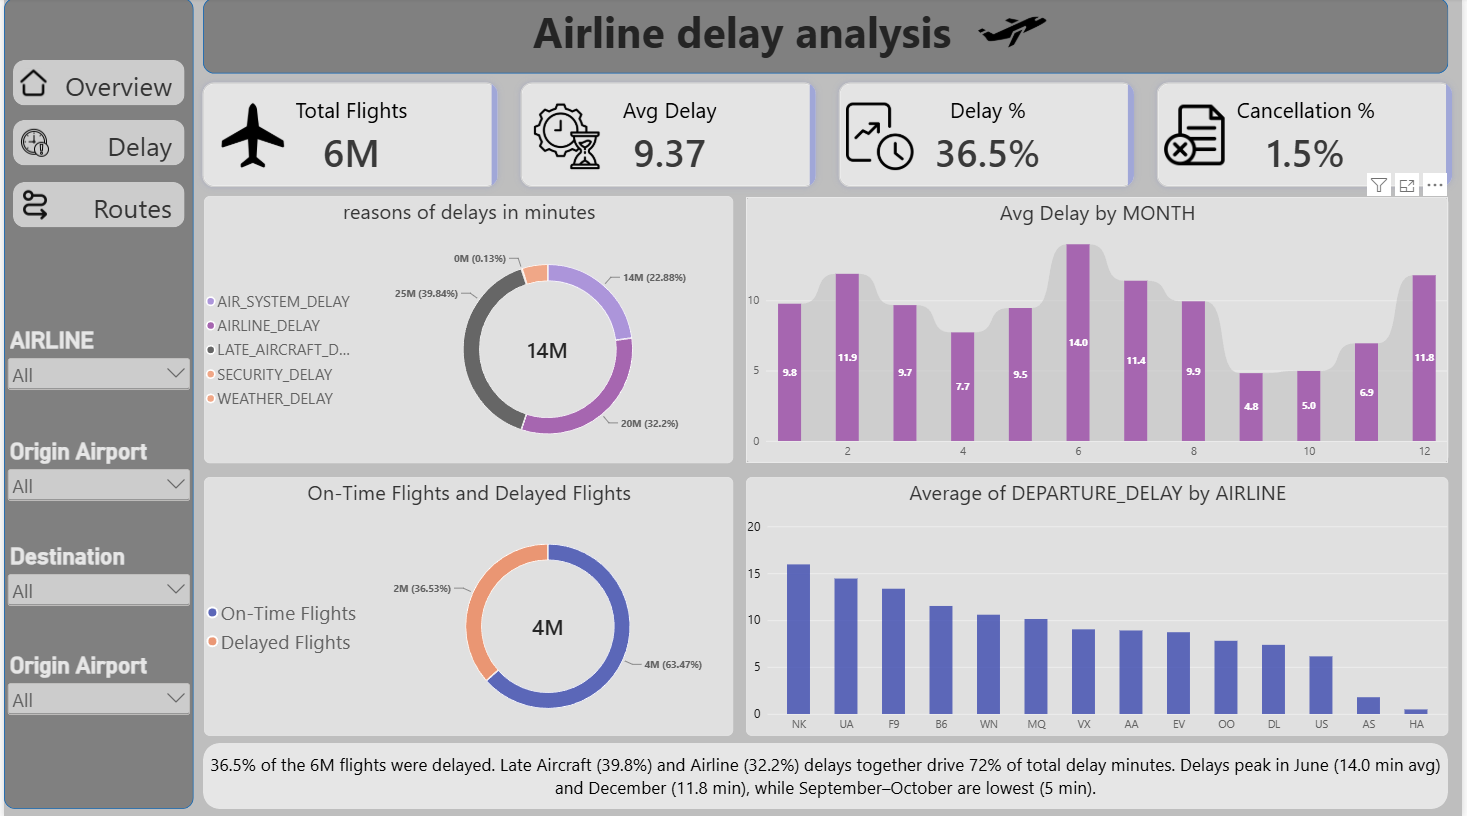

The dashboard page shown, as its layout file describes it:
{"tool":"powerbi","page":{"name":"Overview","canvas":[1920,1080],"ordinal":0},"visuals":[{"type":"cardVisual","fields":{"Data":["flights.Total Flights","flights.Avg Delay","flights.Delay %","flights.Cancellation %"]},"box":[250.2,100.1,1668.7,160.7],"z":0},{"type":"image","box":[283.2,130.4,89.2,101],"z":1000},{"type":"image","box":[696.7,131.7,89,101],"z":2000},{"type":"image","box":[1109,131.7,89,101],"z":3000},{"type":"image","box":[1527.8,130.4,79.6,100.3],"z":4000},{"type":"columnChart","fields":{"Category":["flights.AIRLINE"],"Y":["Avg(flights.DEPARTURE_DELAY)"]},"box":[977.3,630.9,924.6,341.1],"z":5000},{"type":"donutChart","fields":{"Y":["Sum(flights.AIR_SYSTEM_DELAY)","Sum(flights.AIRLINE_DELAY)","Sum(flights.LATE_AIRCRAFT_DELAY)","Sum(flights.SECURITY_DELAY)","Sum(flights.WEATHER_DELAY)"]},"box":[263.4,260.8,696.7,351.7],"z":6000},{"type":"ribbonChart","fields":{"Category":["flights.MONTH"],"Y":["flights.Avg Delay"]},"box":[977.3,262.1,924.6,350.3],"z":7000},{"type":"donutChart","fields":{"Y":["flights.On-Time Flights","flights.Delayed Flights"]},"box":[263.4,630.9,696.7,341.1],"z":8000},{"type":"shape","box":[0,0,249.7,1068.2],"z":9000},{"type":"shape","box":[262.3,0,1640.3,99.6],"z":10000},{"type":"image","box":[1257.9,0,140.6,90.1],"z":11000},{"type":"textbox","box":[696.9,4.7,561,90.1],"z":12000},{"type":"slicer","fields":{"Values":["flights.AIRLINE"]},"box":[0,433,249.7,101.1],"z":13000},{"type":"slicer","fields":{"Values":["flights.ORIGIN_AIRPORT"]},"box":[0,580,249.7,101.1],"z":14000},{"type":"slicer","fields":{"Values":["flights.DESTINATION_AIRPORT"]},"box":[0,717.4,249.7,101.1],"z":15000},{"type":"slicer","fields":{"Values":["flights.DISTANCE"]},"box":[0,861.2,249.7,101.1],"z":16000},{"type":"actionButton","box":[11.7,81.7,226.1,59.8],"z":17000},{"type":"actionButton","box":[11.7,160.5,226.1,59.8],"z":18000},{"type":"actionButton","box":[11.7,242.2,226.1,59.8],"z":19000},{"type":"shape","box":[262.1,981.2,1639.8,86.9],"z":20000}]}

Visuals, with their boxes on the page's 1920x1080 design canvas (x1, y1, x2, y2). These are canvas units, not pixel positions in the 1467x816 screenshot, which may show the page scaled, cropped or inside an application window:
cardVisual - flights.Total Flights x flights.Avg Delay: (x1=250, y1=100, x2=1919, y2=261)
image: (x1=283, y1=130, x2=372, y2=231)
image: (x1=697, y1=132, x2=786, y2=233)
image: (x1=1109, y1=132, x2=1198, y2=233)
image: (x1=1528, y1=130, x2=1607, y2=231)
columnChart - flights.AIRLINE x Avg(flights.DEPARTURE_DELAY): (x1=977, y1=631, x2=1902, y2=972)
donutChart - Sum(flights.AIR_SYSTEM_DELAY) x Sum(flights.AIRLINE_DELAY): (x1=263, y1=261, x2=960, y2=612)
ribbonChart - flights.MONTH x flights.Avg Delay: (x1=977, y1=262, x2=1902, y2=612)
donutChart - flights.On-Time Flights x flights.Delayed Flights: (x1=263, y1=631, x2=960, y2=972)
shape: (x1=0, y1=0, x2=250, y2=1068)
shape: (x1=262, y1=0, x2=1903, y2=100)
image: (x1=1258, y1=0, x2=1398, y2=90)
textbox: (x1=697, y1=5, x2=1258, y2=95)
slicer - flights.AIRLINE: (x1=0, y1=433, x2=250, y2=534)
slicer - flights.ORIGIN_AIRPORT: (x1=0, y1=580, x2=250, y2=681)
slicer - flights.DESTINATION_AIRPORT: (x1=0, y1=717, x2=250, y2=818)
slicer - flights.DISTANCE: (x1=0, y1=861, x2=250, y2=962)
actionButton: (x1=12, y1=82, x2=238, y2=142)
actionButton: (x1=12, y1=160, x2=238, y2=220)
actionButton: (x1=12, y1=242, x2=238, y2=302)
shape: (x1=262, y1=981, x2=1902, y2=1068)
